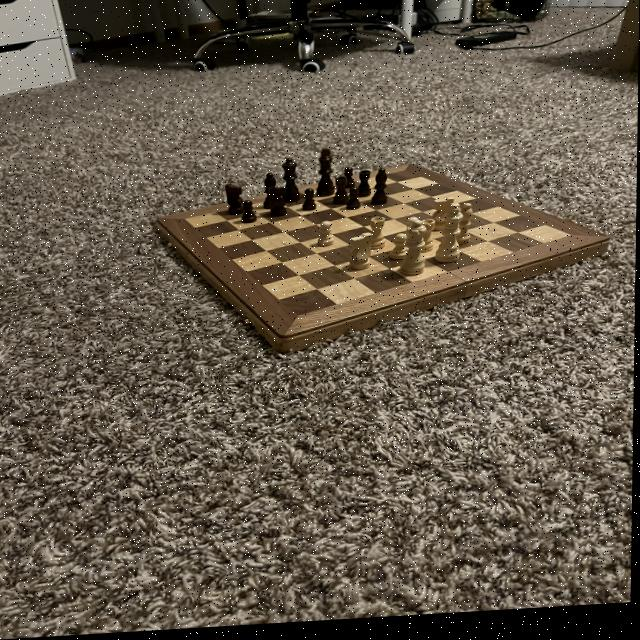bishop: (370, 171, 391, 211), (262, 174, 283, 212)
black-bishop: (314, 150, 337, 203)
black-king: (267, 188, 290, 223), (225, 186, 248, 218), (332, 180, 351, 210), (356, 173, 373, 204)
black-knight: (346, 189, 363, 217), (240, 203, 259, 228), (301, 190, 319, 216), (342, 169, 358, 192)
black-pawn: (279, 158, 304, 207)
black-rook: (451, 205, 476, 252)
white-bishop: (434, 205, 466, 269)
white-king: (345, 236, 375, 279), (427, 199, 457, 238)
white-knight: (388, 238, 411, 268), (316, 224, 338, 254), (404, 219, 422, 250)
white-pawn: (399, 224, 428, 284)
white-queen: (366, 219, 389, 256), (418, 223, 438, 260)
